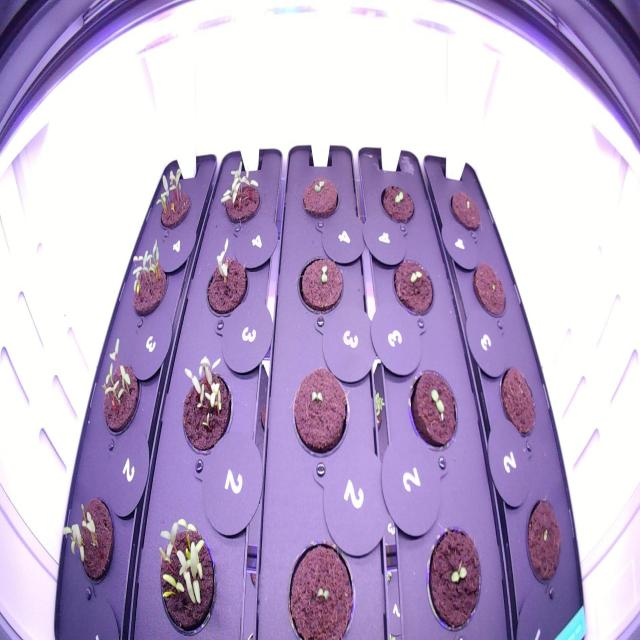germination: (146, 510, 223, 638), (280, 531, 362, 640), (420, 511, 486, 637), (284, 359, 355, 472), (56, 482, 118, 594), (175, 346, 235, 461), (404, 357, 466, 455), (96, 331, 144, 449), (200, 231, 252, 329), (120, 233, 171, 324), (292, 246, 349, 320), (146, 158, 197, 236), (386, 250, 439, 323), (215, 155, 264, 232), (293, 167, 347, 224), (374, 175, 420, 231)
pod: (519, 483, 565, 595), (492, 357, 540, 445), (469, 254, 513, 324), (446, 182, 485, 241)
